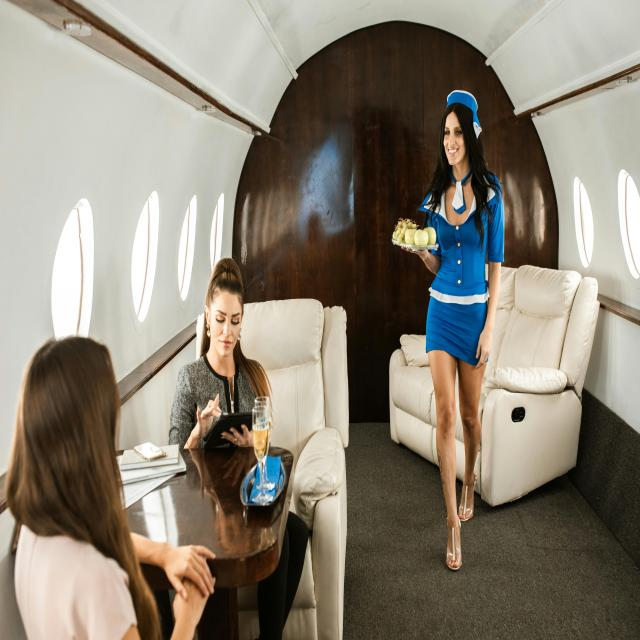sit: (170, 261, 319, 640)
stand: (402, 74, 502, 574)
